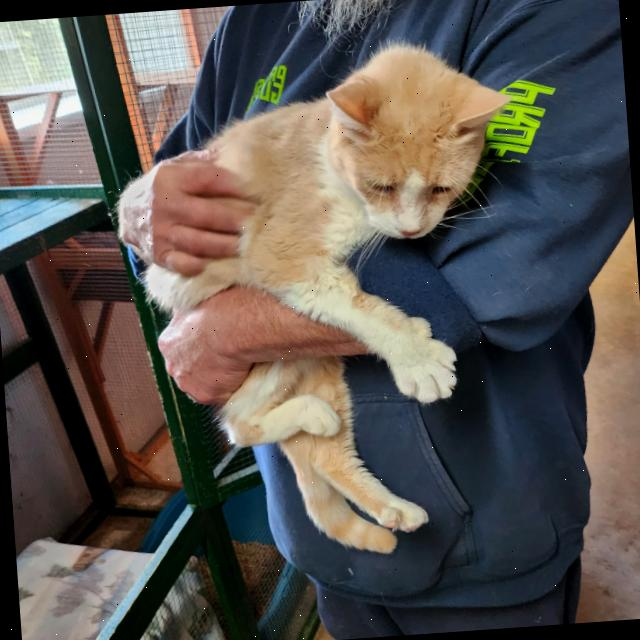domestic_short_hair_cat: (303, 18, 528, 266)
